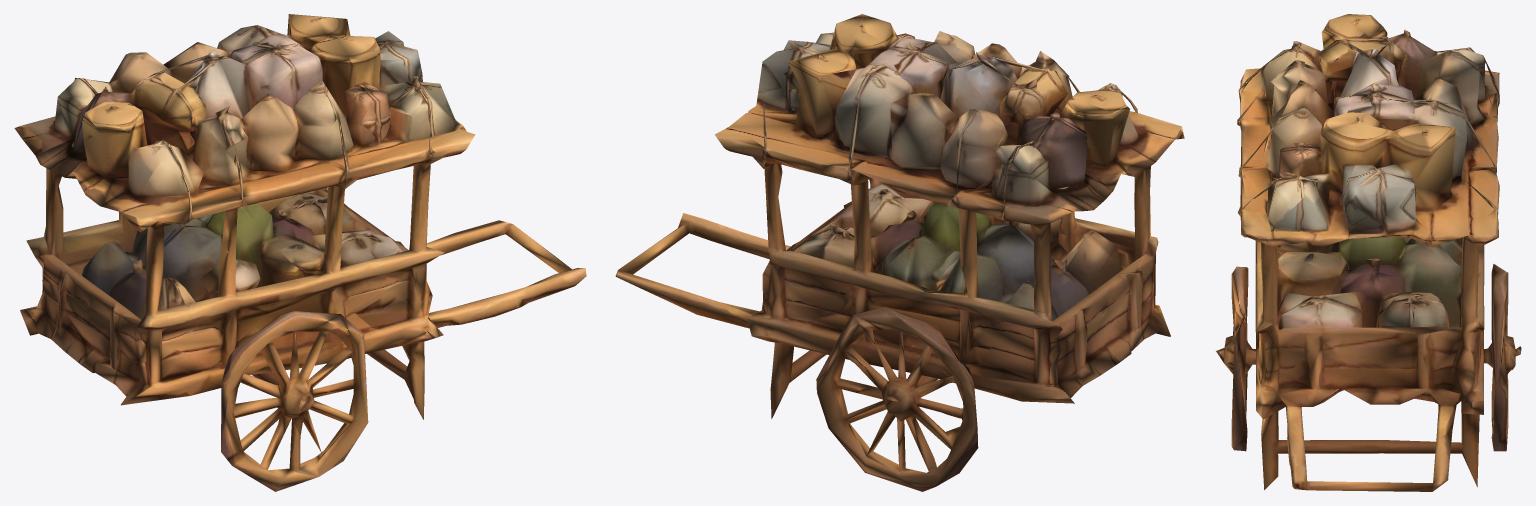
Rendered from xe-cho-hang.d5f39174.glb.
3 renders of one model, left to right at view 1: azimuth 30°, elevation 25°; view 2: azimuth 150°, elevation 25°; view 3: azimuth 270°, elevation 25°, orthographic.
Visible parts, largest first — view 1: tripo_node_f5a4f33e-aff3-4c7f-aadc-f2dda5672677; view 2: tripo_node_f5a4f33e-aff3-4c7f-aadc-f2dda5672677; view 3: tripo_node_f5a4f33e-aff3-4c7f-aadc-f2dda5672677.
Part boxes in pixels (x1,y1,x2,y2): tripo_node_f5a4f33e-aff3-4c7f-aadc-f2dda5672677: (14,14,586,491); tripo_node_f5a4f33e-aff3-4c7f-aadc-f2dda5672677: (615,14,1184,491); tripo_node_f5a4f33e-aff3-4c7f-aadc-f2dda5672677: (1216,14,1521,491).
Bounding box in the file's own units: 0.9581 × 0.7461 × 0.5376.
Materials: 1 (1 with a texture image).
